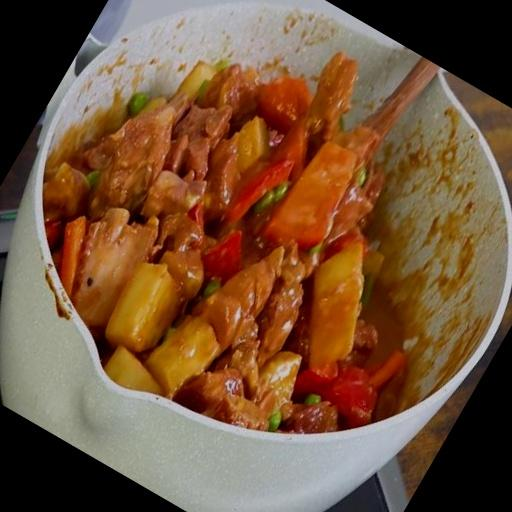pork caldereta: (36, 62, 403, 435)
